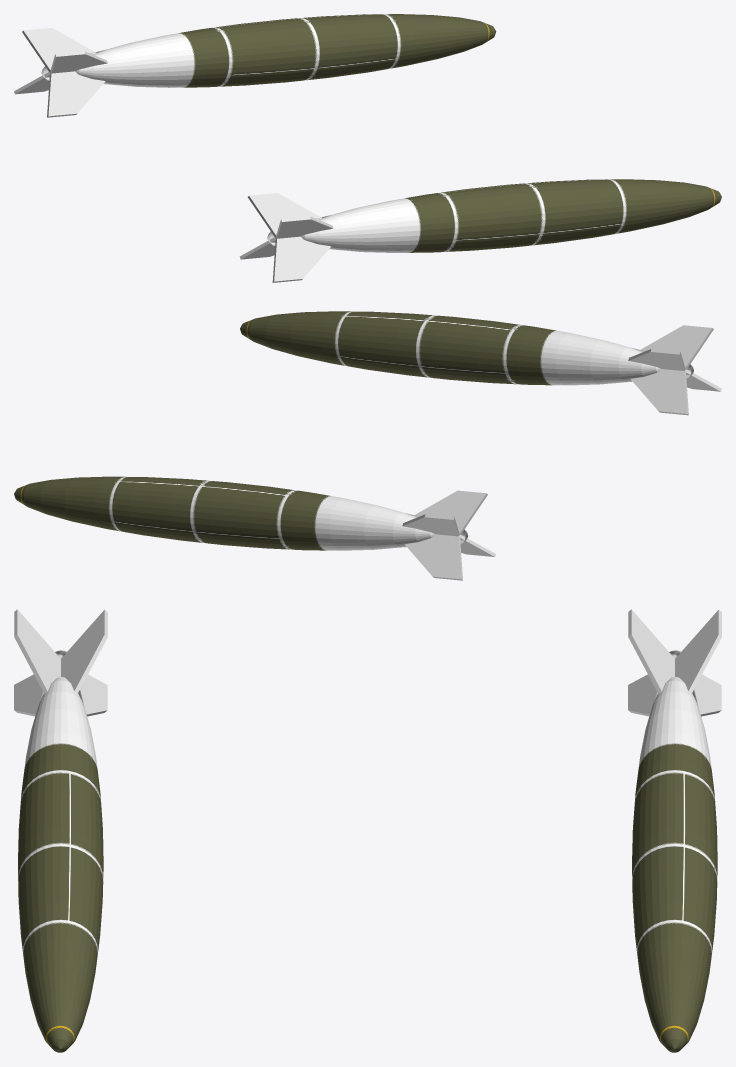
Rendered from a10cgbu31481.glb.
3 renders of one model, top to bottom at view 1: azimuth 30°, elevation 25°; view 2: azimuth 150°, elevation 25°; view 3: azimuth 270°, elevation 25°, orthographic. The views are drawn at different scales.
Visible parts, largest first — view 1: 立方体.005, 立方体.004; view 2: 立方体.005, 立方体.004; view 3: 立方体.005, 立方体.004.
Part boxes in pixels (x1,y1,x2,y2): 立方体.005: [239, 179, 721, 282]; 立方体.004: [14, 14, 496, 117]; 立方体.005: [240, 311, 721, 415]; 立方体.004: [14, 476, 495, 580]; 立方体.005: [14, 609, 107, 1052]; 立方体.004: [628, 609, 721, 1052].
Bounding box in the file's own units: 3.8 × 0.8684 × 3.68.
Materials: 1 (1 with a texture image).
